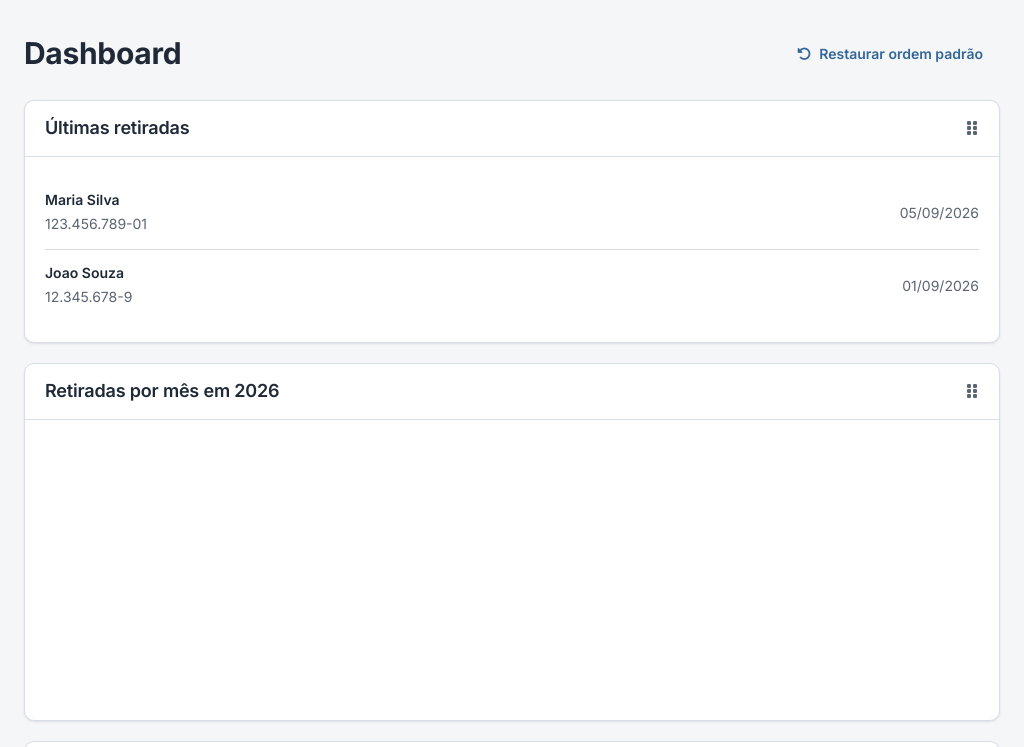
Test case: DashboardComponent › interações › restaura a ordem salva e permite voltar à ordem padrão
Click the button with class "dash-restaurar". click: x=890, y=54
box: [780, 32, 1000, 76]
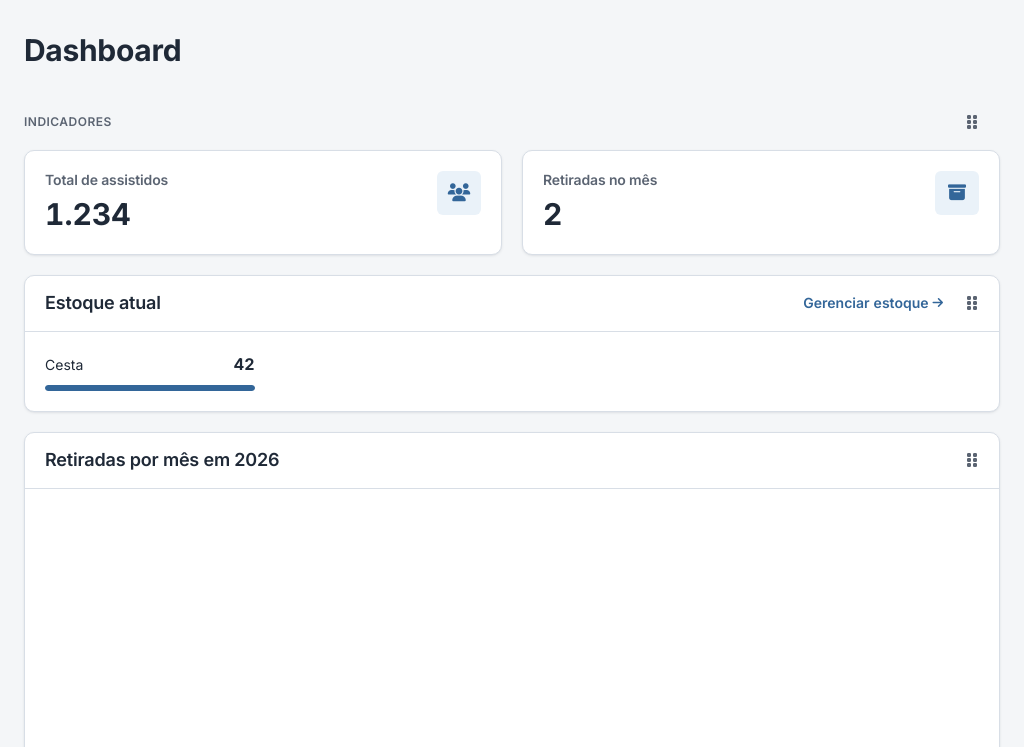
Now the button with class "dash-restaurar" is gone
